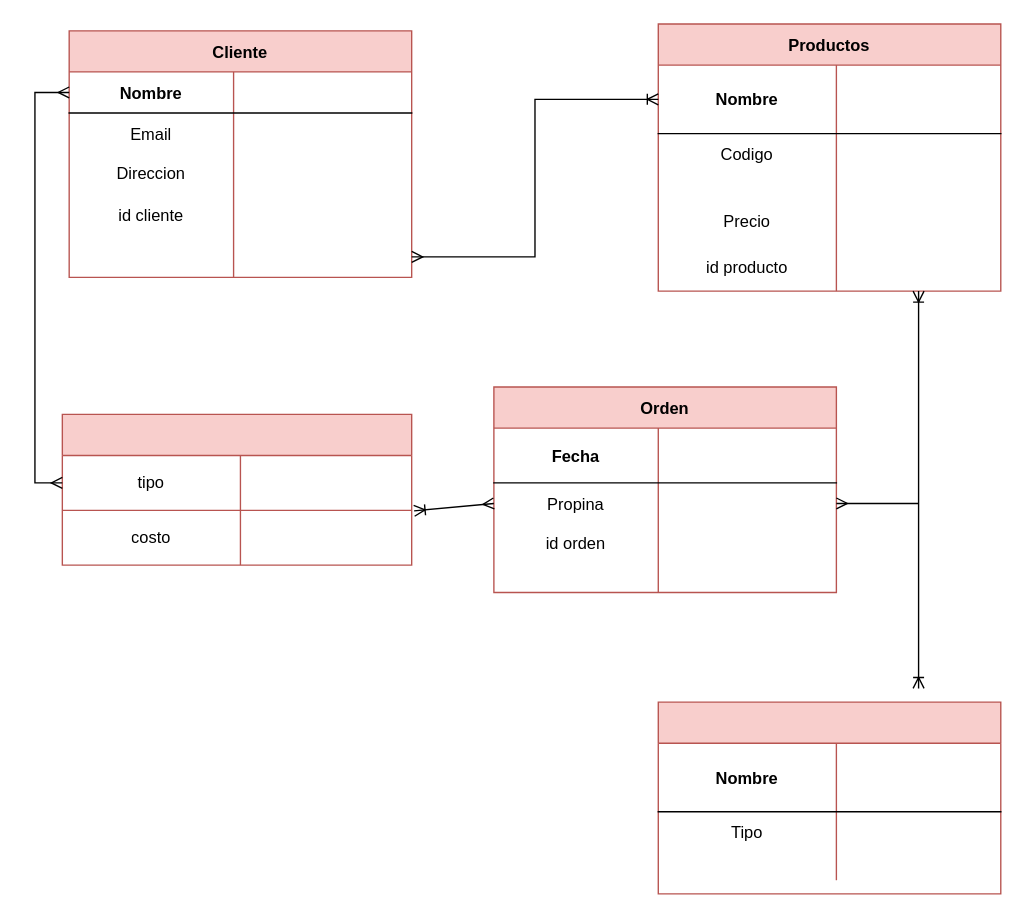
The diagram is 1025 pixels wide and 918 high, and some of its shapes have lost their labels. The shapes that lost their labels are listed below. From the top down, each one's box as (x1, y1, x2, y2) in pixels, then its label:
(61, 413, 412, 565): Entregas
(657, 701, 1001, 894): Categoria
